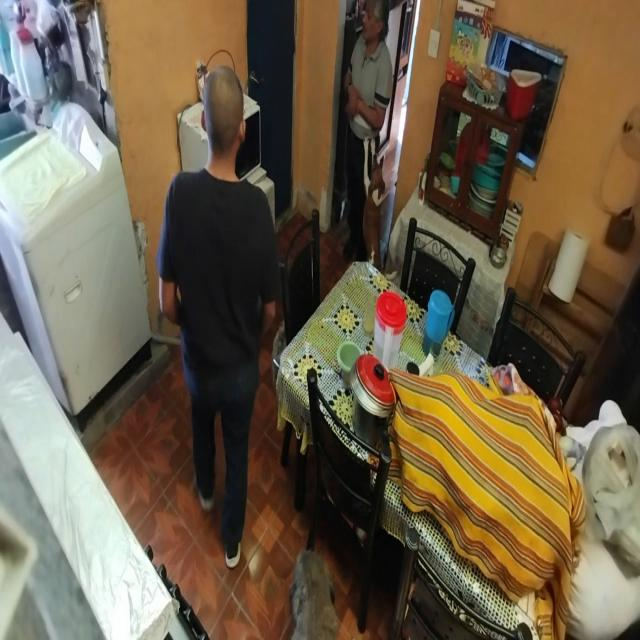adult: (158, 62, 278, 569), (340, 0, 393, 265)
